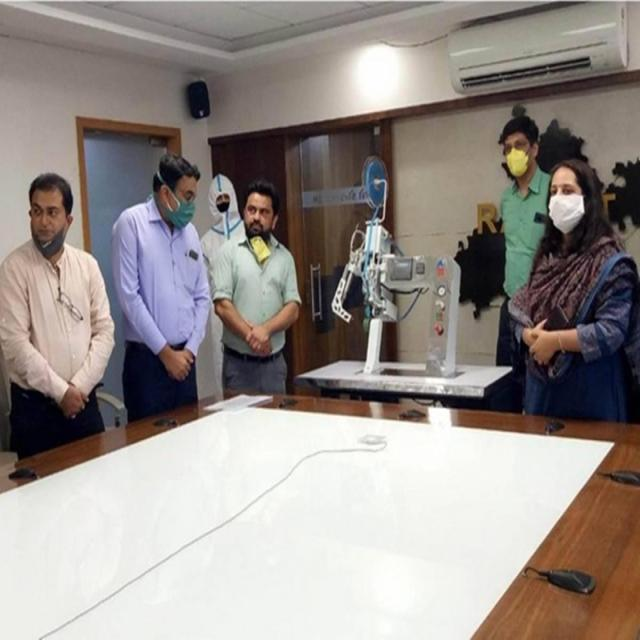Mask: (545, 191, 586, 235)
